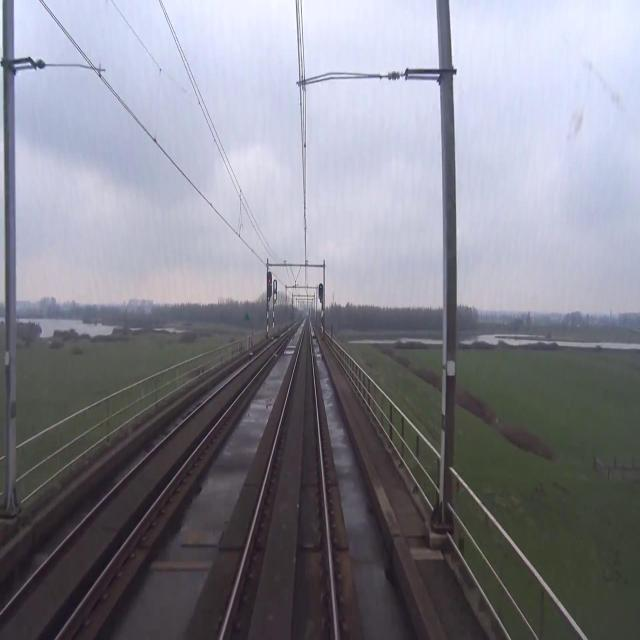rail-track: (0, 335, 286, 639), (223, 324, 334, 639)
